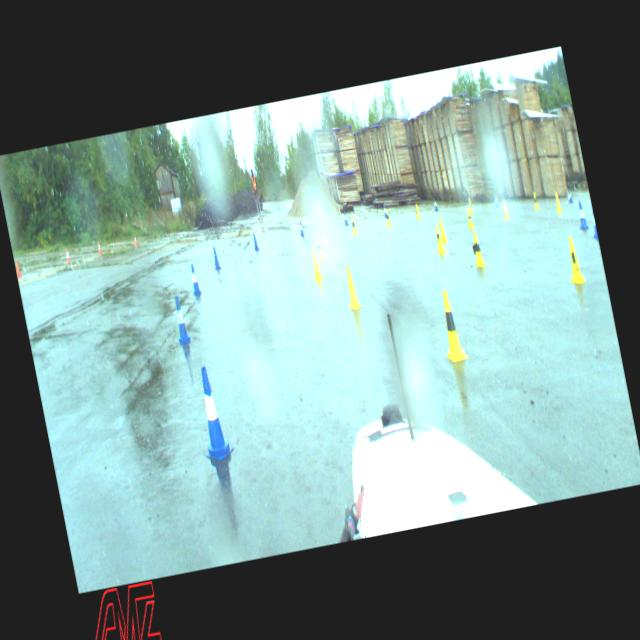blue_cone: (190, 364, 234, 462), (170, 294, 192, 344), (188, 263, 202, 296), (576, 200, 588, 230), (212, 246, 222, 270), (590, 211, 598, 238), (252, 232, 260, 251), (342, 211, 349, 226), (298, 220, 304, 237), (493, 192, 499, 208), (567, 188, 573, 204), (432, 198, 438, 211), (382, 204, 387, 216)
orange_cone: (15, 261, 21, 277), (64, 248, 70, 262), (96, 240, 102, 253), (134, 236, 138, 246)
yellow_cone: (434, 290, 468, 362), (564, 237, 586, 286), (342, 264, 362, 311), (469, 232, 486, 268), (310, 248, 322, 281), (434, 225, 446, 254), (314, 236, 324, 260), (438, 218, 448, 242), (464, 206, 474, 228), (502, 200, 510, 220), (554, 193, 562, 213), (350, 217, 358, 234), (532, 192, 539, 210), (385, 210, 392, 227), (322, 229, 328, 246), (415, 203, 421, 220), (468, 198, 473, 214)
